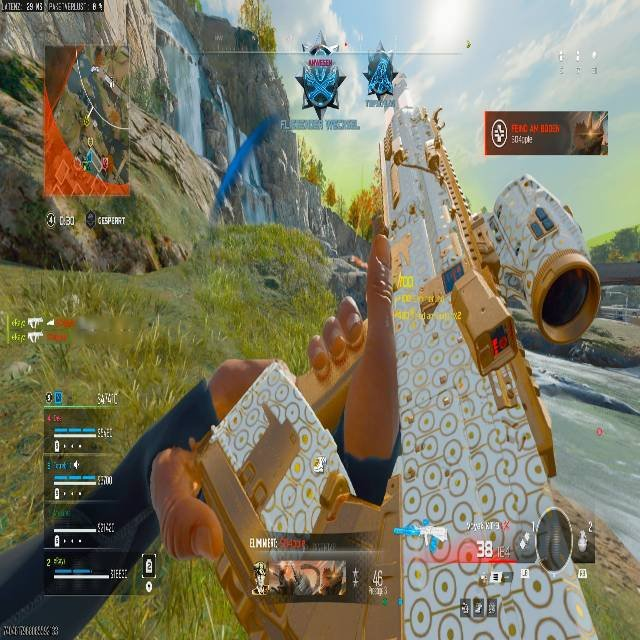head: (310, 44, 332, 57)
player: (296, 44, 344, 120), (365, 54, 398, 104)
